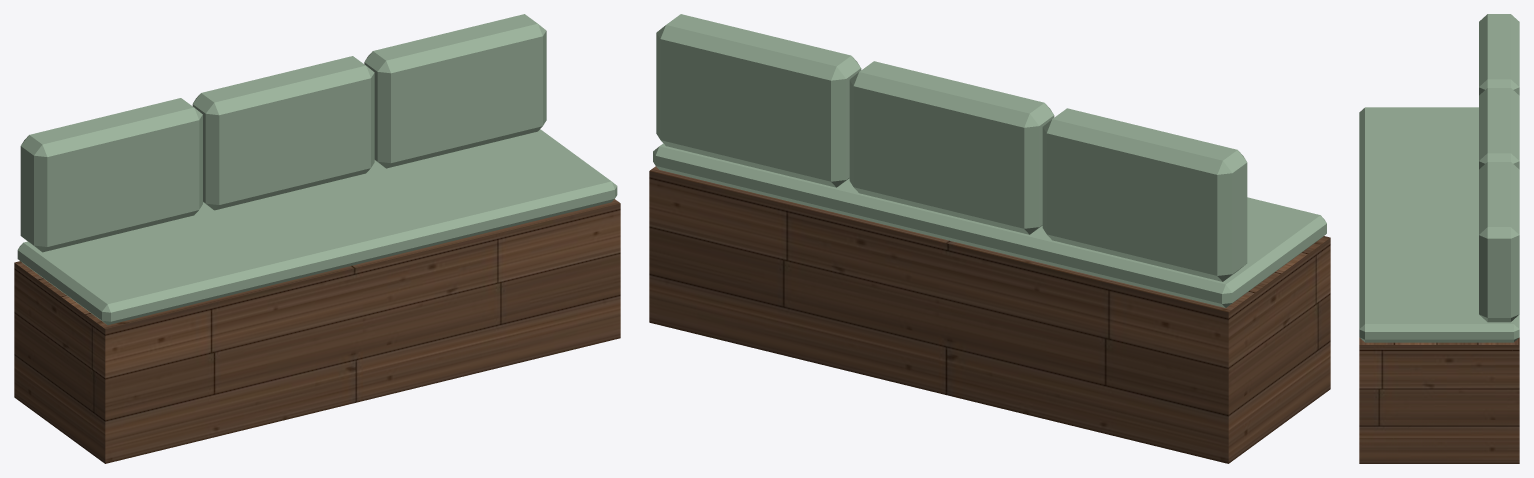
File: bench_lobby.glb
3 views of the same model, side by side, from view 1: azimuth 30°, elevation 25°; view 2: azimuth 150°, elevation 25°; view 3: azimuth 270°, elevation 25° (orthographic). The views are drawn at different scales.
Visible parts, largest first — view 1: bench_lobby_vinyl_g, bench_lobby_dkwood; view 2: bench_lobby_dkwood, bench_lobby_vinyl_g; view 3: bench_lobby_vinyl_g, bench_lobby_dkwood.
Part boxes in pixels (box(x1,y1,x2,y2)): bench_lobby_vinyl_g: box(17, 14, 617, 325); bench_lobby_dkwood: box(14, 199, 620, 463); bench_lobby_dkwood: box(649, 166, 1330, 463); bench_lobby_vinyl_g: box(653, 14, 1326, 307); bench_lobby_vinyl_g: box(1359, 14, 1519, 342); bench_lobby_dkwood: box(1359, 337, 1519, 463).
Bounding box in the file's own units: 1.8 × 0.88 × 0.55.
2 materials, 1 textured.
